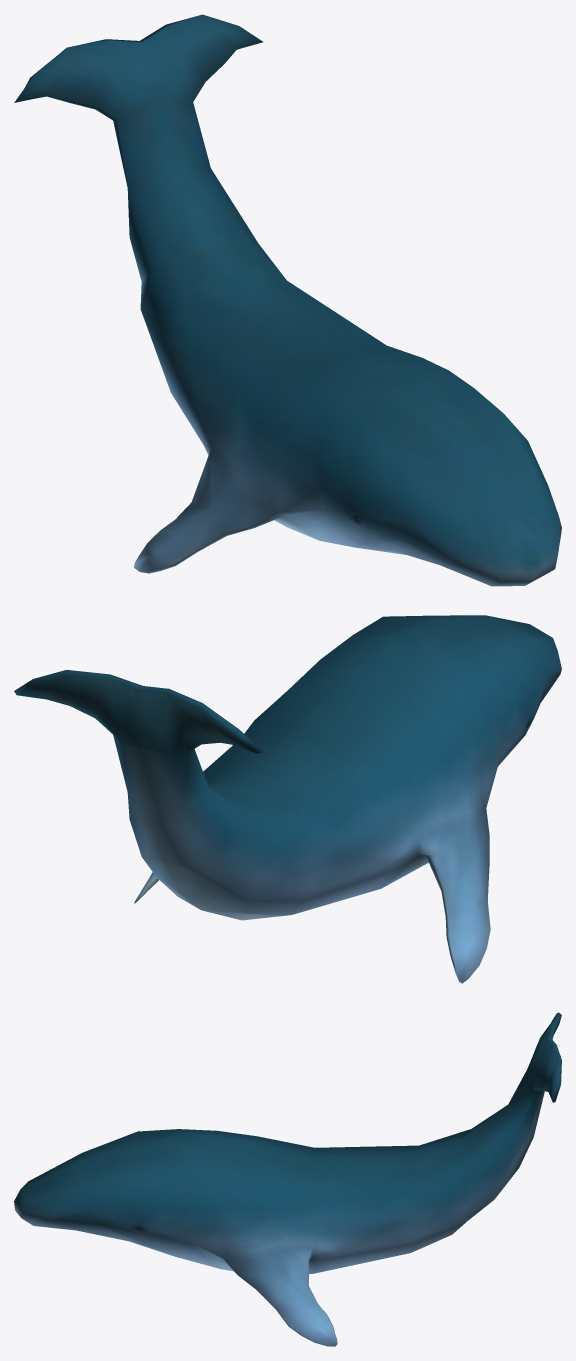
The model's file is Whales.glb.
3 views of the same model, one above another, from view 1: azimuth 30°, elevation 25°; view 2: azimuth 150°, elevation 25°; view 3: azimuth 270°, elevation 25° (orthographic). The views are drawn at different scales.
Visible parts, largest first — view 1: whale_01; view 2: whale_01; view 3: whale_01.
Boxes of the visible parts, x1,y1,x2,y2 form: whale_01: (14, 14, 561, 586); whale_01: (14, 615, 561, 983); whale_01: (14, 1012, 561, 1346).
Bounding box in the file's own units: 6.41 × 6.99 × 13.47.
Materials: 1 (1 with a texture image).
